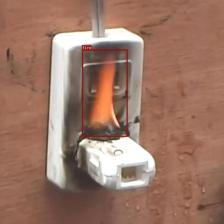fire: (82, 49, 127, 137)
